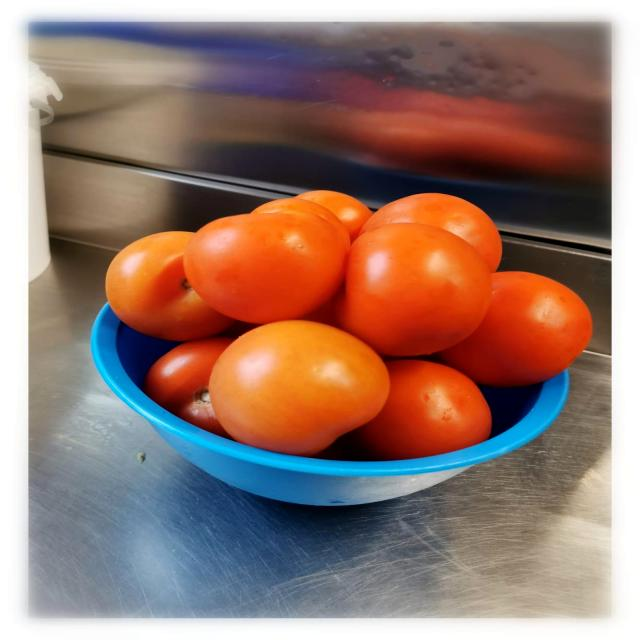tomato: (195, 313, 398, 452), (322, 221, 498, 353), (181, 203, 347, 322)
